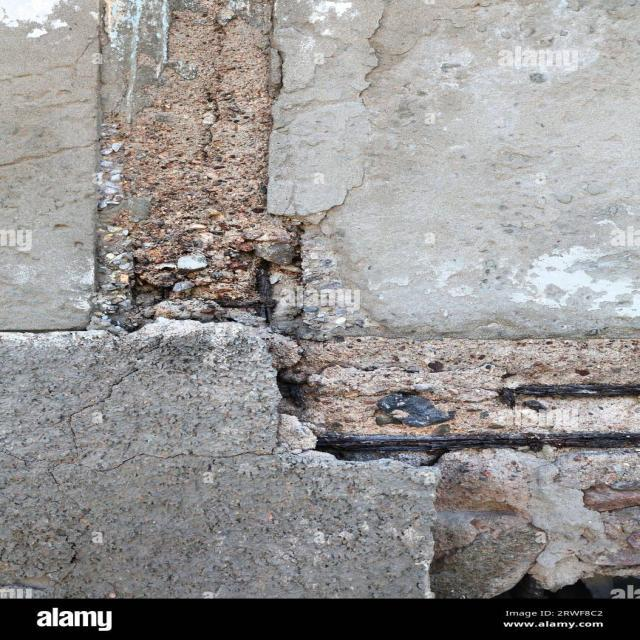Spalling: (96, 1, 639, 607)
corrosion: (327, 432, 639, 455)
